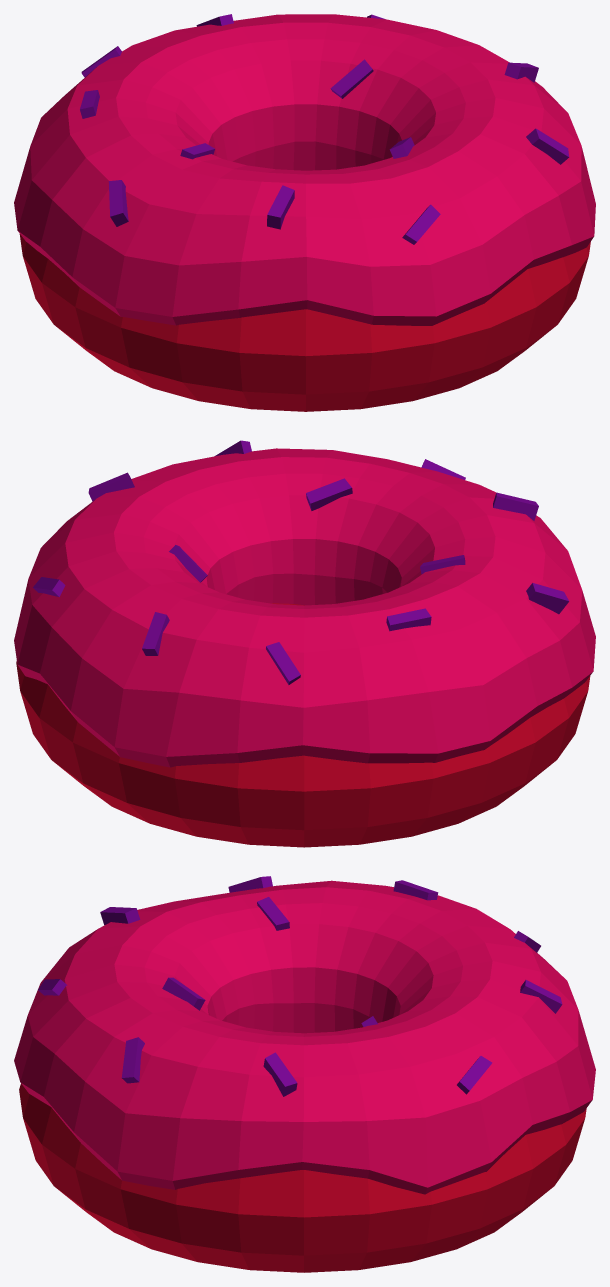
Rendered from Donut_01.fbx.
The picture shows the model from 3 angles, top to bottom: view 1: azimuth 30°, elevation 25°; view 2: azimuth 150°, elevation 25°; view 3: azimuth 270°, elevation 25°; orthographic projection.
Visible parts, largest first — view 1: Donut_01; view 2: Donut_01; view 3: Donut_01.
Boxes of the visible parts, box(x1,y1,x2,y2) form: Donut_01: box(14, 14, 595, 411); Donut_01: box(14, 440, 595, 847); Donut_01: box(14, 876, 595, 1272).
Size of the model in its own units: 9.24 by 3.99 by 9.39.
